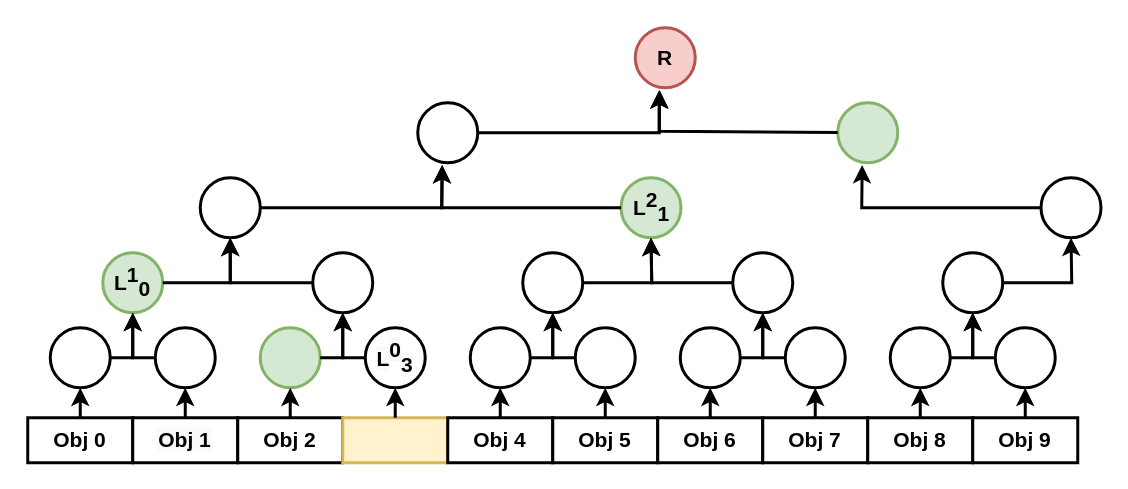
The diagram is 1128 pixels wide and 489 high, and some of its shapes have lost their labels. The shapes that lost their labels are listed below. From the top down, each one's box as (x1, y1, x2, y2) in pixels, then its label:
(836, 100, 898, 164): L 3 1
(258, 326, 321, 388): L 0 2
(340, 416, 448, 464): Obj 3
